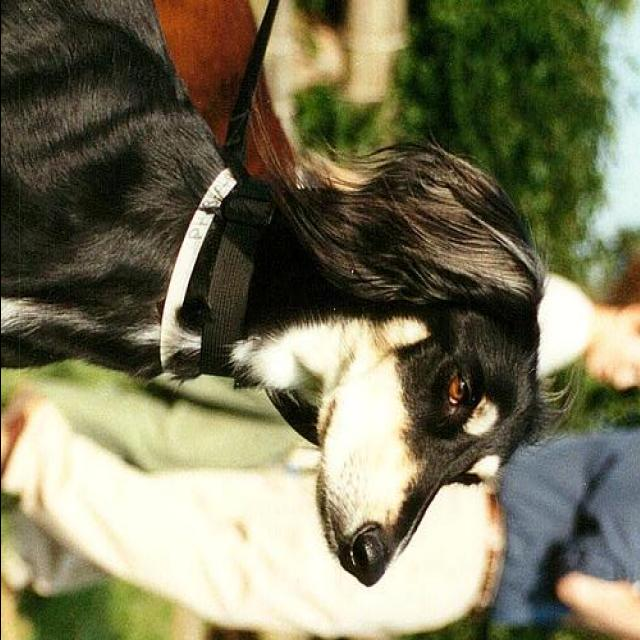saluki: (2, 3, 574, 597)
